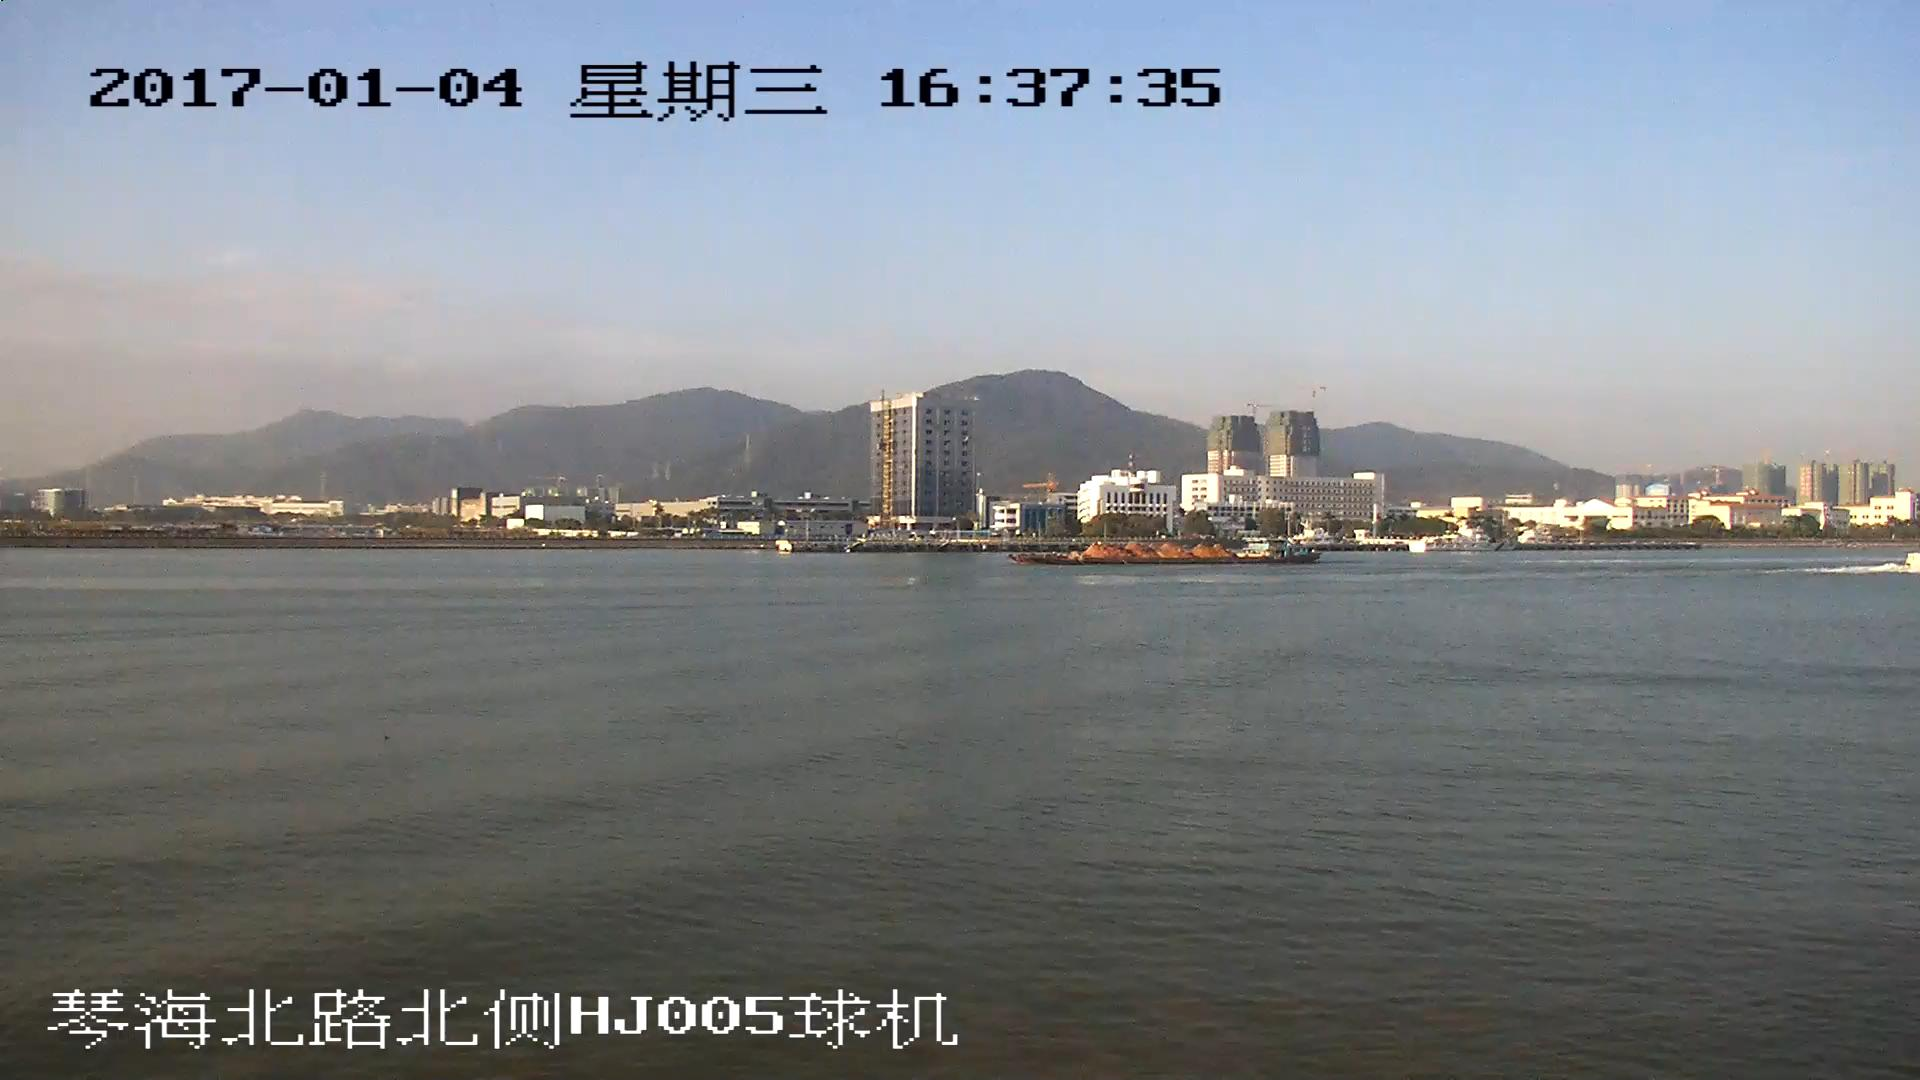ore carrier: (1017, 537, 1320, 566)
